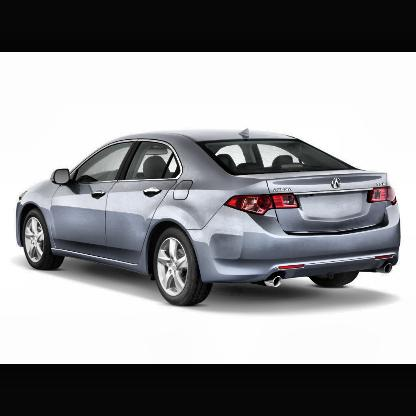Acura TSX Sedan 2012: (16, 128, 403, 308)
